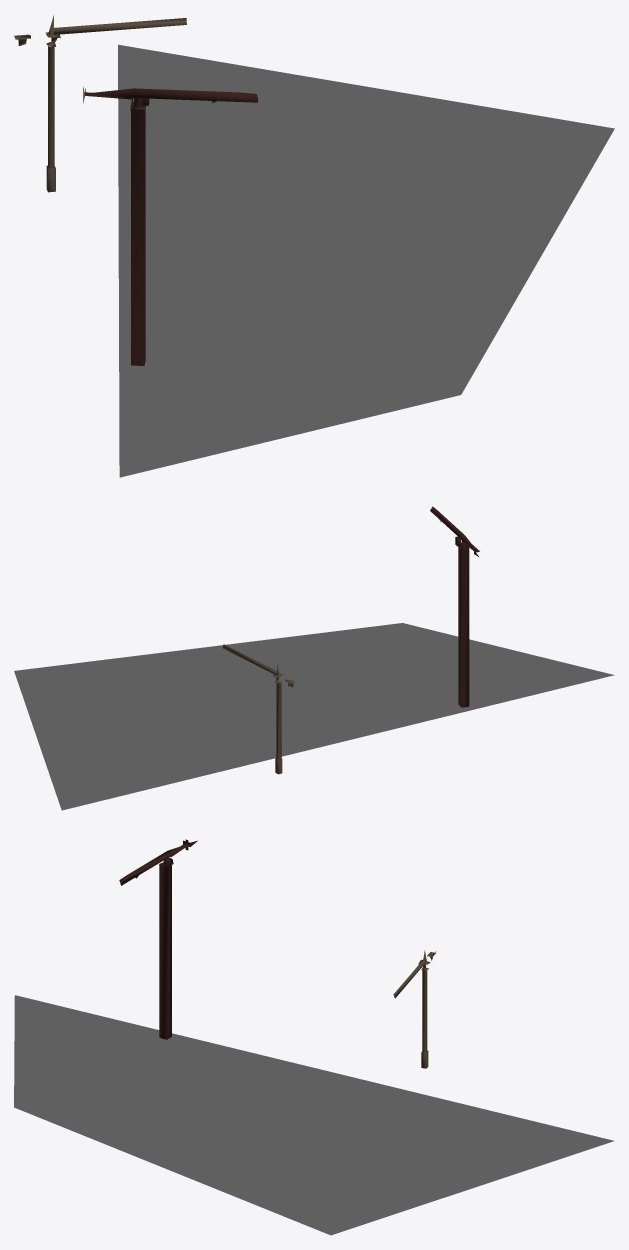
3 renders of one model, top to bottom at view 1: azimuth 30°, elevation 25°; view 2: azimuth 150°, elevation 25°; view 3: azimuth 270°, elevation 25°, orthographic. The views are drawn at different scales.
Visible parts, largest first — view 1: merged__lod1; view 2: merged__lod1; view 3: merged__lod1.
Boxes of the visible parts, bbox=[...] form: merged__lod1: bbox=[14, 15, 614, 477]; merged__lod1: bbox=[14, 506, 614, 810]; merged__lod1: bbox=[14, 839, 613, 1235].
Bounding box in the file's own units: 285 × 103 × 301.
